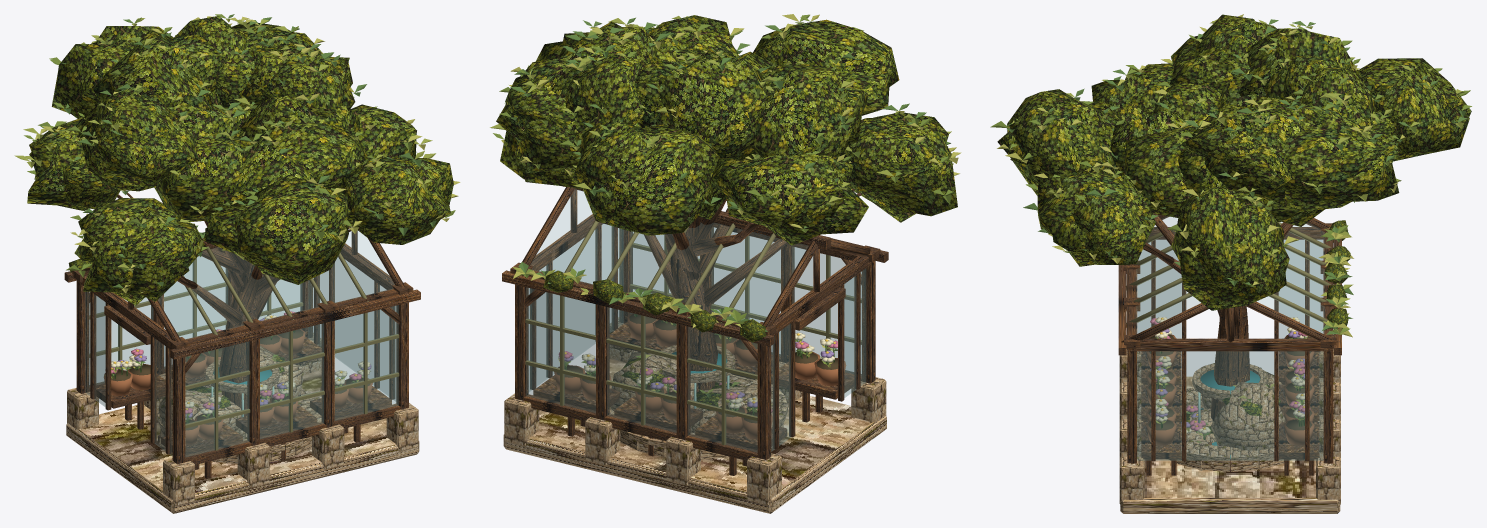
The model's file is river-kit.glb.
3 views of the same model, side by side, from view 1: azimuth 30°, elevation 25°; view 2: azimuth 150°, elevation 25°; view 3: azimuth 270°, elevation 25° (orthographic). The views are drawn at different scales.
Visible parts, largest first — view 1: RiverOak_leaf, RiverGardenPavilion_glass, RiverGardenPavilion_wood, RiverGardenPavilion_stone, RiverGardenPavilion_bronze, RiverOak_wood, RiverGardenPavilion_clay, RiverOak_leaf3, RiverOak_leaf0, RiverOak_leaf2, RiverOak_leaf1, RiverMossRocks_stone (+3 smaller); view 2: RiverOak_leaf, RiverGardenPavilion_glass, RiverGardenPavilion_wood, RiverGardenPavilion_stone, RiverGardenPavilion_bronze, RiverOak_wood, RiverGardenPavilion_clay, RiverGardenPavilion_leaf, RiverOak_leaf3, RiverFountain_stone, RiverOak_leaf0, RiverMossRocks_stone (+7 smaller); view 3: RiverOak_leaf, RiverGardenPavilion_glass, RiverGardenPavilion_wood, RiverGardenPavilion_stone, RiverMossRocks_stone, RiverFountain_stone, RiverOak_wood, RiverGardenPavilion_bronze, RiverOak_leaf3, RiverOak_leaf0, RiverOak_leaf2, RiverGardenPavilion_clay (+6 smaller).
Boxes of the visible parts, bbox=[...] form: RiverOak_leaf: bbox=[27, 16, 453, 305]; RiverGardenPavilion_glass: bbox=[85, 231, 398, 456]; RiverGardenPavilion_wood: bbox=[64, 226, 420, 478]; RiverGardenPavilion_stone: bbox=[66, 333, 419, 513]; RiverGardenPavilion_bronze: bbox=[89, 246, 399, 450]; RiverOak_wood: bbox=[117, 190, 352, 416]; RiverGardenPavilion_clay: bbox=[104, 329, 372, 445]; RiverOak_leaf3: bbox=[40, 14, 450, 288]; RiverOak_leaf0: bbox=[24, 14, 455, 277]; RiverOak_leaf2: bbox=[35, 16, 460, 293]; RiverOak_leaf1: bbox=[14, 18, 435, 268]; RiverMossRocks_stone: bbox=[158, 346, 304, 447]; RiverOak_leaf: bbox=[496, 15, 957, 245]; RiverGardenPavilion_glass: bbox=[526, 189, 865, 452]; RiverGardenPavilion_wood: bbox=[502, 186, 888, 475]; RiverGardenPavilion_stone: bbox=[503, 317, 886, 513]; RiverGardenPavilion_bronze: bbox=[525, 220, 861, 445]; RiverOak_wood: bbox=[644, 188, 861, 392]; RiverGardenPavilion_clay: bbox=[554, 313, 846, 439]; RiverGardenPavilion_leaf: bbox=[543, 270, 766, 342]; RiverOak_leaf3: bbox=[510, 17, 950, 228]; RiverFountain_stone: bbox=[609, 345, 787, 459]; RiverOak_leaf0: bbox=[493, 14, 955, 232]; RiverMossRocks_stone: bbox=[610, 352, 772, 448]; RiverOak_leaf: bbox=[997, 14, 1471, 310]; RiverGardenPavilion_glass: bbox=[1136, 216, 1323, 460]; RiverGardenPavilion_wood: bbox=[1118, 214, 1341, 475]; RiverGardenPavilion_stone: bbox=[1119, 349, 1340, 513]; RiverMossRocks_stone: bbox=[1181, 372, 1285, 470]; RiverFountain_stone: bbox=[1169, 363, 1291, 471]; RiverOak_wood: bbox=[1143, 214, 1293, 420]; RiverGardenPavilion_bronze: bbox=[1126, 222, 1331, 327]; RiverOak_leaf3: bbox=[1006, 19, 1467, 286]; RiverOak_leaf0: bbox=[990, 26, 1471, 286]; RiverOak_leaf2: bbox=[997, 14, 1406, 285]; RiverGardenPavilion_clay: bbox=[1146, 334, 1314, 445].
Size of the model in its own units: 6.16 by 6.01 by 6.59.
17 materials, 3 textured.
